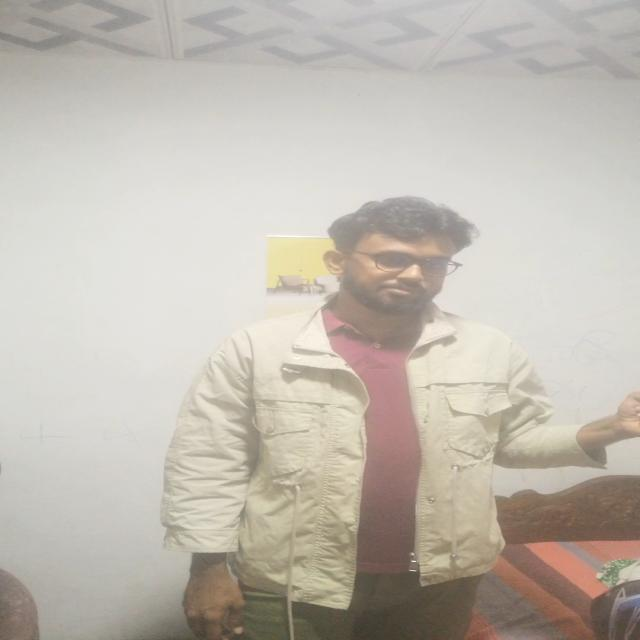Jacket_Wearer: (162, 304, 591, 584)
Person: (151, 196, 640, 640)
